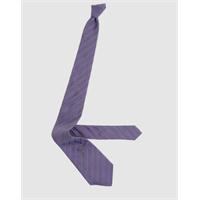tie: (51, 3, 142, 186)
